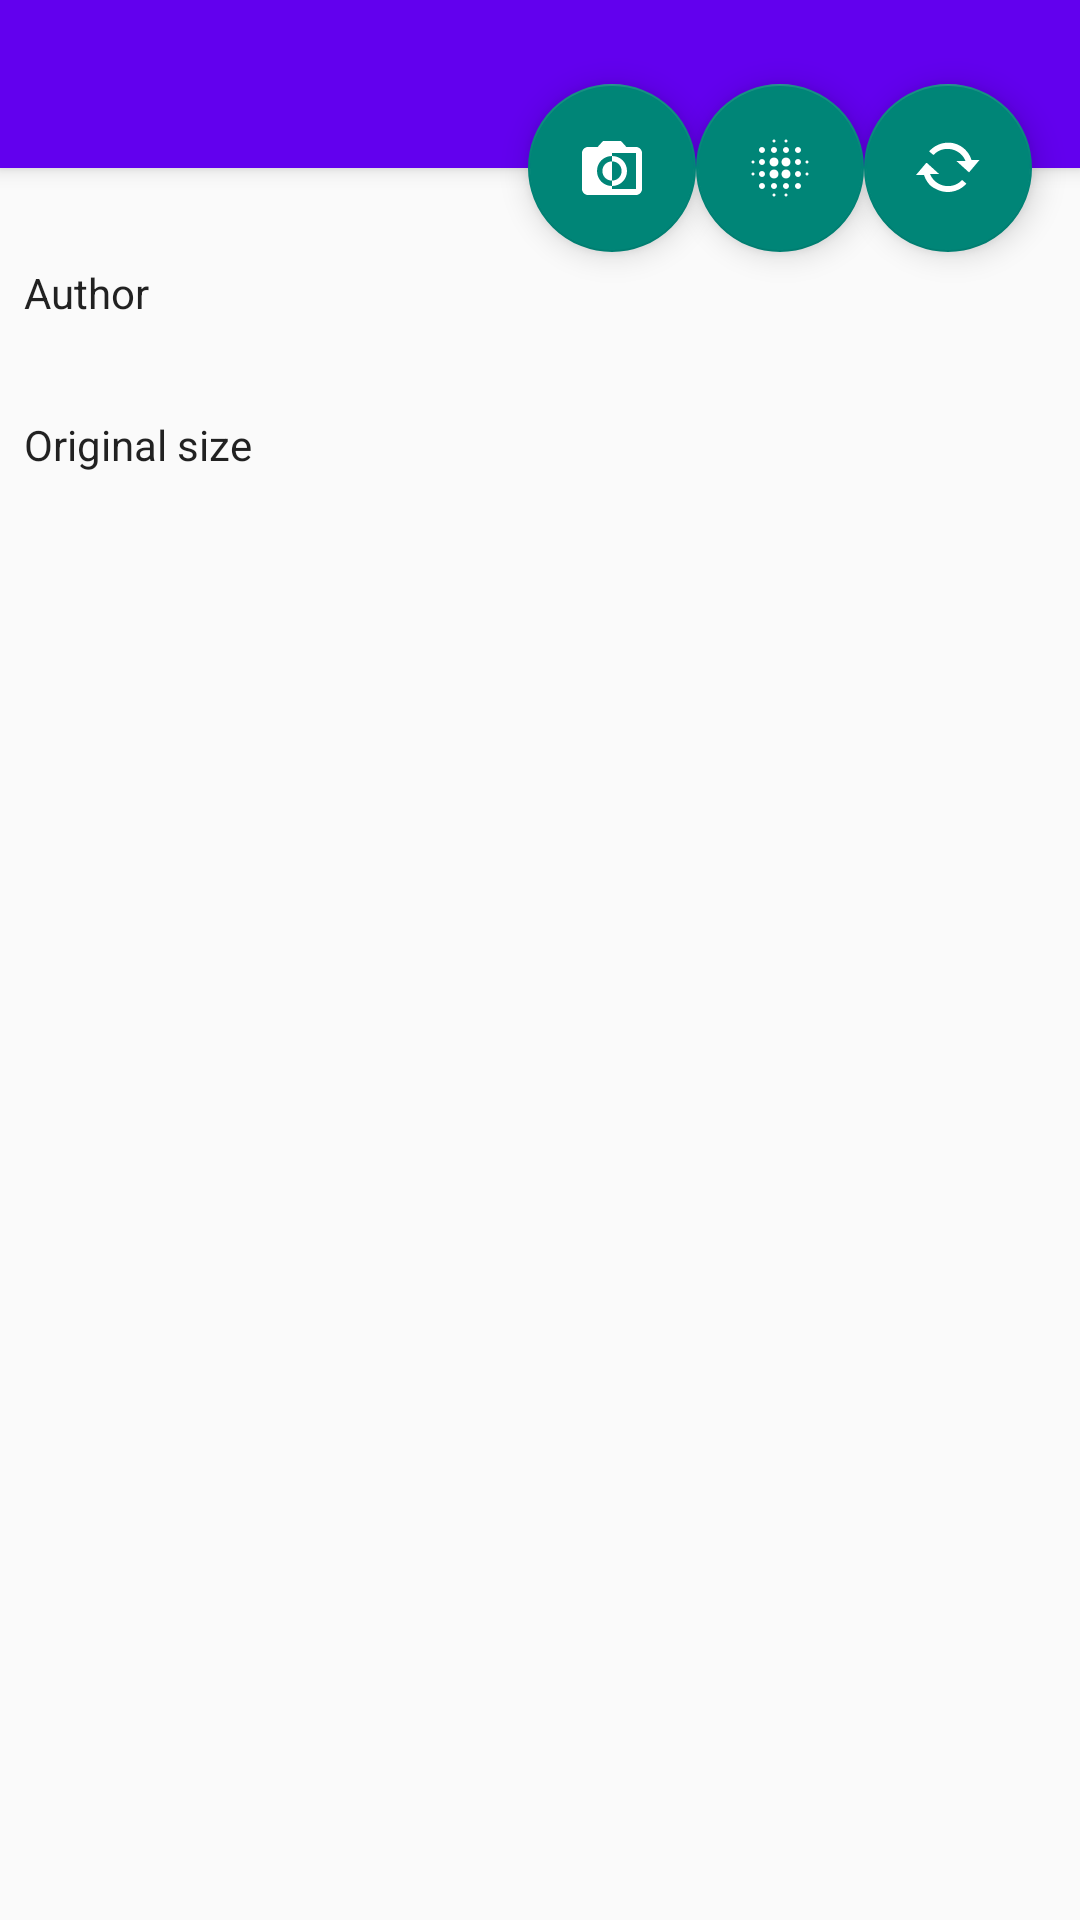

Icons on this 1080 × 1920 Android screen, each with the point to tap as (x=x, y=y):
blur on: (x=780, y=168)
sync: (x=948, y=168)
